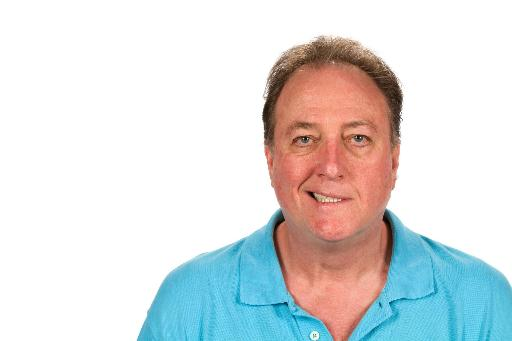left_eye: (346, 134, 373, 147)
left_lip_corner: (343, 196, 355, 204)
right_eye: (293, 134, 319, 147)
right_lip_corner: (303, 189, 316, 198)
